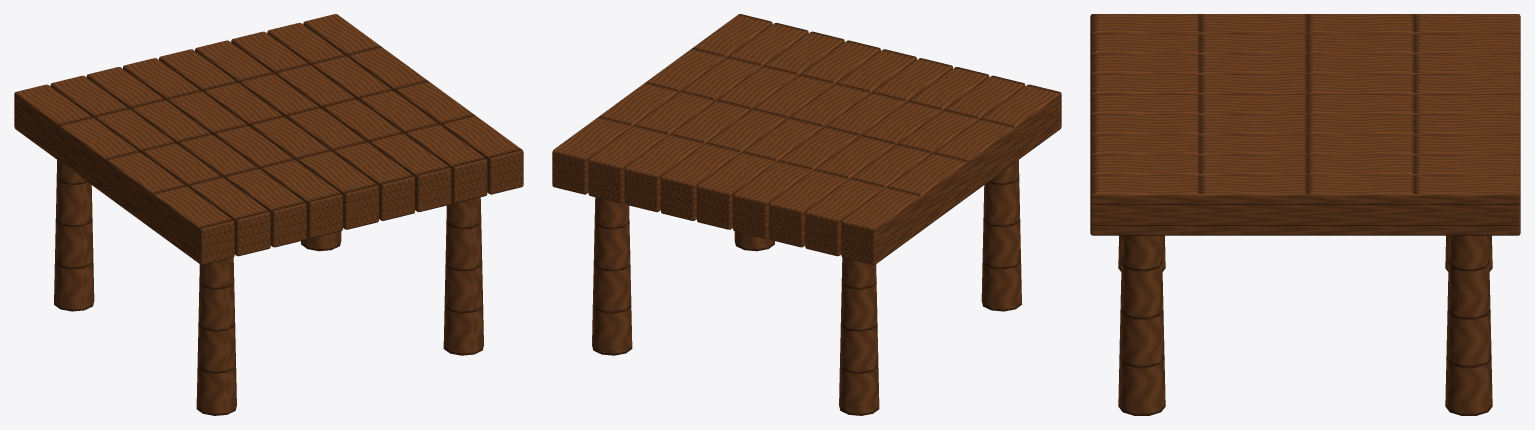
The model's file is modular-survival-base-builder-timber-pile-foundation-cc7ac76e__24139.glb.
3 views of the same model, side by side, from view 1: azimuth 30°, elevation 25°; view 2: azimuth 150°, elevation 25°; view 3: azimuth 270°, elevation 25° (orthographic). The views are drawn at different scales.
Visible parts, largest first — view 1: timber-pile-foundation; view 2: timber-pile-foundation; view 3: timber-pile-foundation.
Boxes of the visible parts, bbox=[...] form: timber-pile-foundation: bbox=[14, 14, 523, 415]; timber-pile-foundation: bbox=[552, 14, 1061, 415]; timber-pile-foundation: bbox=[1090, 14, 1520, 415].
Bounding box in the file's own units: 1.99 × 1.2 × 2.
1 material, 1 textured.
